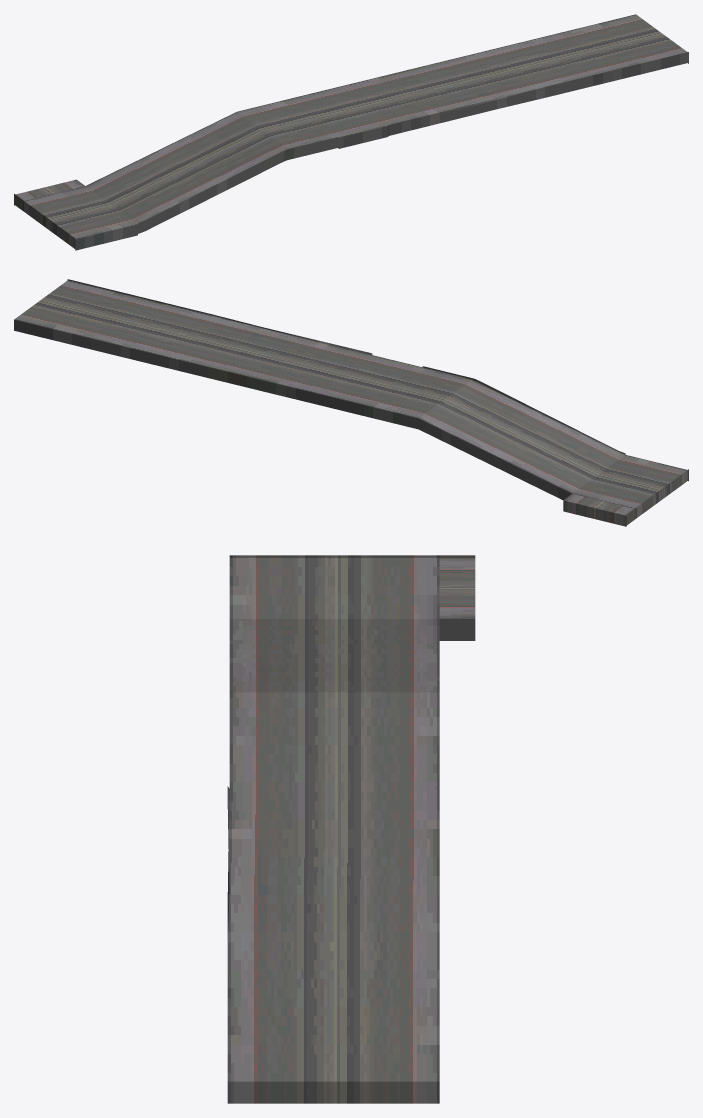
File: lodroads_sfw15.obj
3 views of the same model, one above another, from view 1: azimuth 30°, elevation 25°; view 2: azimuth 150°, elevation 25°; view 3: azimuth 270°, elevation 25° (orthographic). The views are drawn at different scales.
Parts seen in each view (by area): view 1: LODroads_sfw15; view 2: LODroads_sfw15; view 3: LODroads_sfw15.
Boxes of the visible parts, x1,y1,x2,y2 form: LODroads_sfw15: [14, 14, 688, 250]; LODroads_sfw15: [14, 279, 688, 526]; LODroads_sfw15: [227, 555, 475, 1103].
Bounding box in the file's own units: 245 × 18.96 × 42.8.
2 materials, 2 textured.
